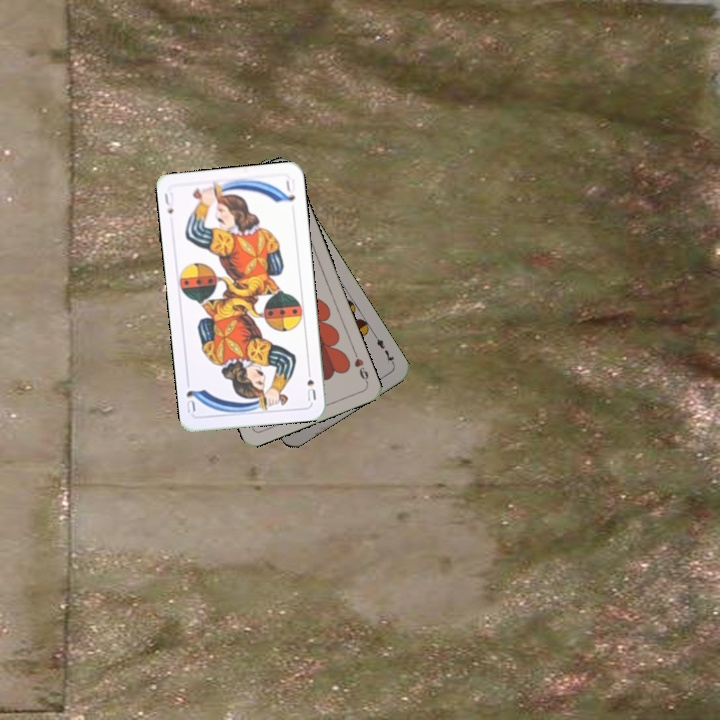E7: (370, 331, 397, 367)
H9: (350, 347, 371, 386)
SU: (303, 364, 319, 403), (160, 188, 176, 217)
